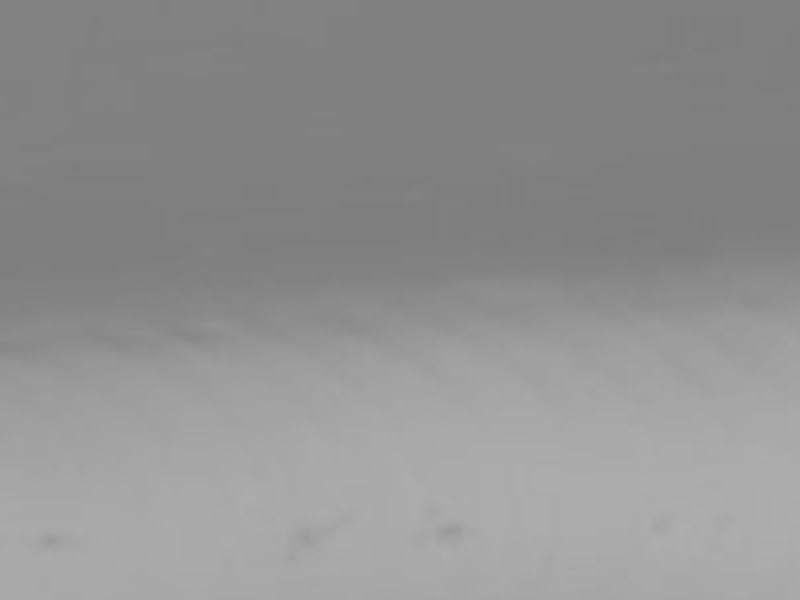defect: (280, 518, 333, 563), (25, 528, 78, 559), (432, 520, 477, 549), (415, 493, 447, 521), (646, 509, 674, 539)
